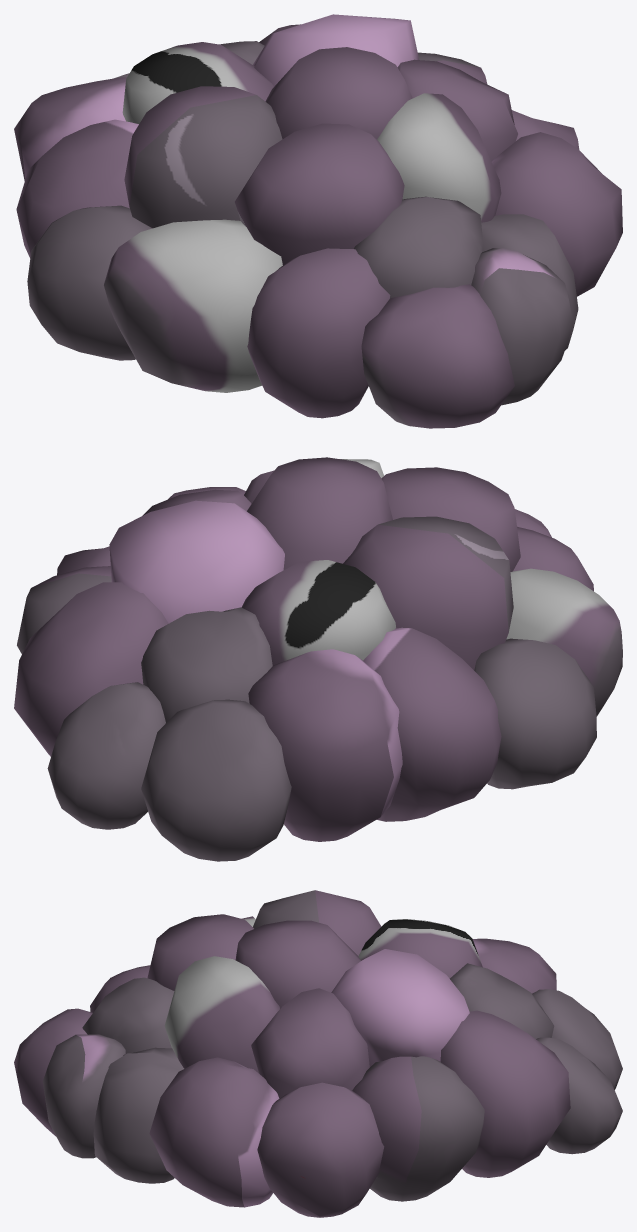
Rendered from Coral_Blue.FBX.
The picture shows the model from 3 angles, top to bottom: view 1: azimuth 30°, elevation 25°; view 2: azimuth 150°, elevation 25°; view 3: azimuth 270°, elevation 25°; orthographic projection. The views are drawn at different scales.
Visible parts, largest first — view 1: Sphere020; view 2: Sphere020; view 3: Sphere020.
Boxes of the visible parts, <box> form: Sphere020: <box>14,14,622,428</box>; Sphere020: <box>14,457,622,861</box>; Sphere020: <box>14,890,622,1217</box>.
Bounding box in the file's own units: 94.85 × 45.61 × 114.
